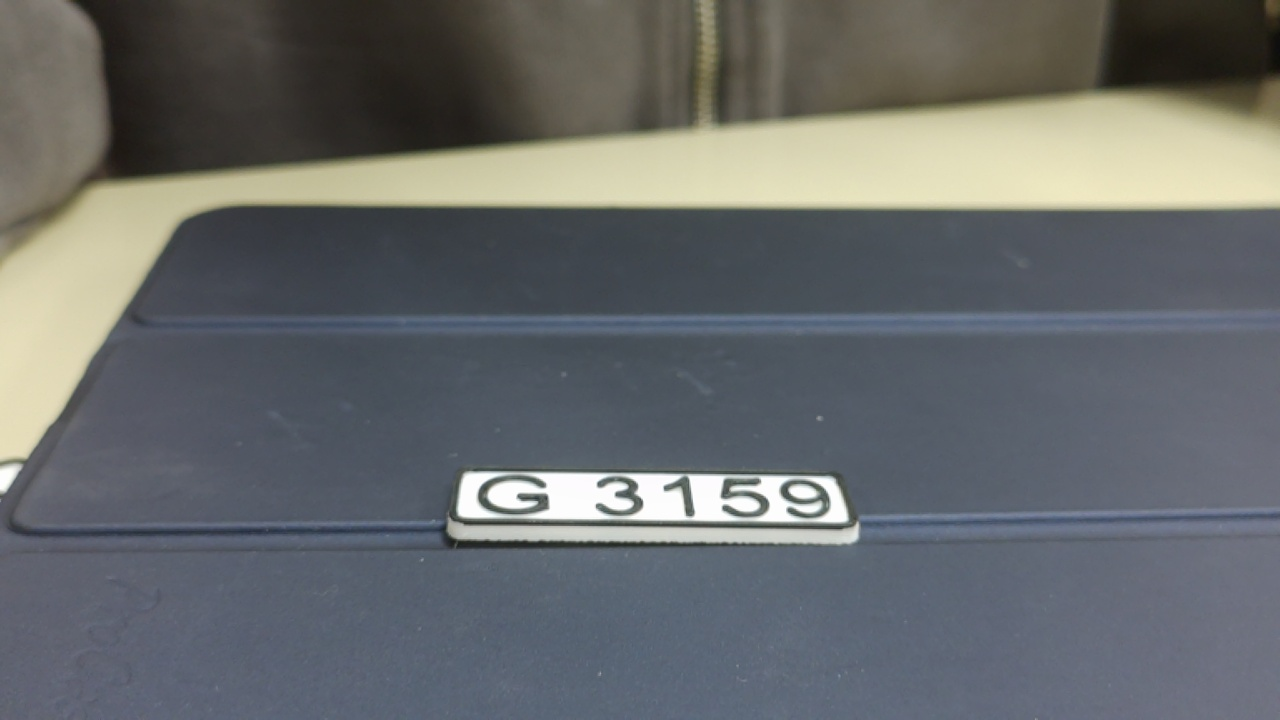license_plate: (437, 458, 865, 551)
